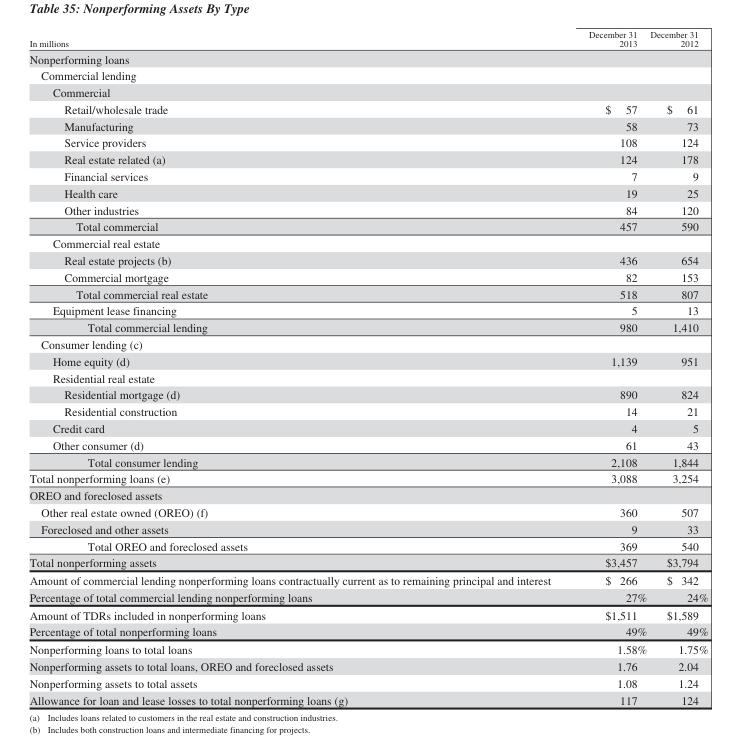table: (28, 28, 707, 706)
table column: (28, 28, 569, 706), (569, 28, 647, 706), (647, 28, 707, 706)
table column header: (28, 28, 707, 49)
table projected row header: (28, 49, 707, 66), (28, 66, 707, 83), (28, 83, 707, 100), (28, 234, 707, 251), (28, 335, 707, 352), (28, 369, 707, 386), (28, 486, 707, 503)
table row: (28, 28, 707, 49), (28, 605, 707, 623), (28, 49, 707, 66), (28, 66, 707, 83), (28, 83, 707, 100), (28, 100, 707, 117), (28, 117, 707, 134), (28, 150, 707, 167), (28, 167, 707, 184), (28, 184, 707, 201), (28, 201, 707, 218), (28, 234, 707, 251), (28, 251, 707, 268), (28, 268, 707, 285), (28, 285, 707, 302), (28, 318, 707, 335), (28, 335, 707, 352), (28, 352, 707, 369), (28, 369, 707, 386), (28, 402, 707, 419), (28, 419, 707, 436), (28, 436, 707, 453), (28, 453, 707, 470), (28, 486, 707, 503), (28, 503, 707, 520), (28, 520, 707, 537), (28, 537, 707, 554), (28, 554, 707, 571), (28, 571, 707, 588), (28, 588, 707, 605), (28, 623, 707, 640), (28, 640, 707, 657), (28, 657, 707, 674), (28, 674, 707, 691), (28, 134, 707, 150), (28, 218, 707, 234), (28, 302, 707, 318), (28, 386, 707, 402), (28, 470, 707, 486), (28, 691, 707, 706)
